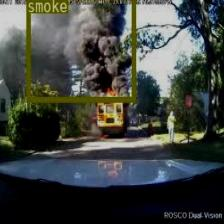smoke: (25, 0, 134, 100)
